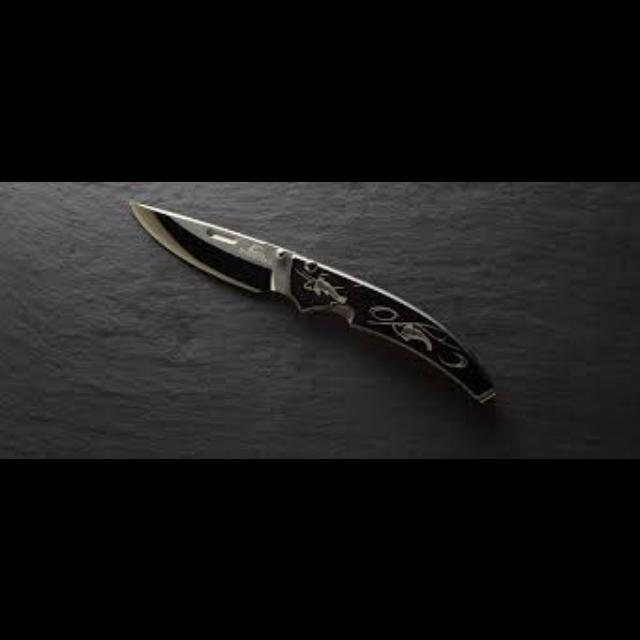Knife: (128, 198, 496, 404)
